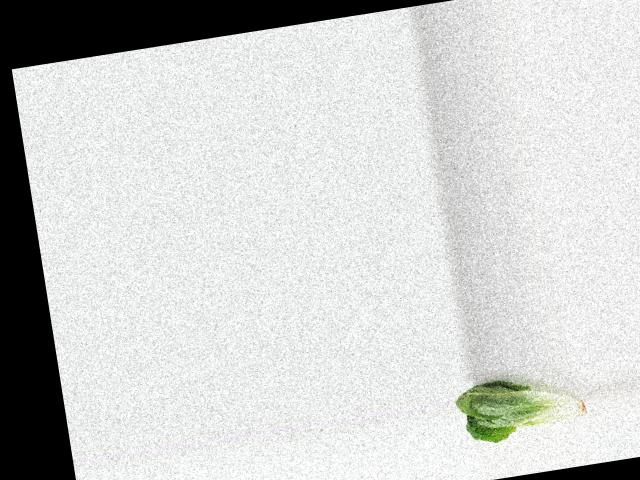lettuce: (452, 363, 595, 449)
